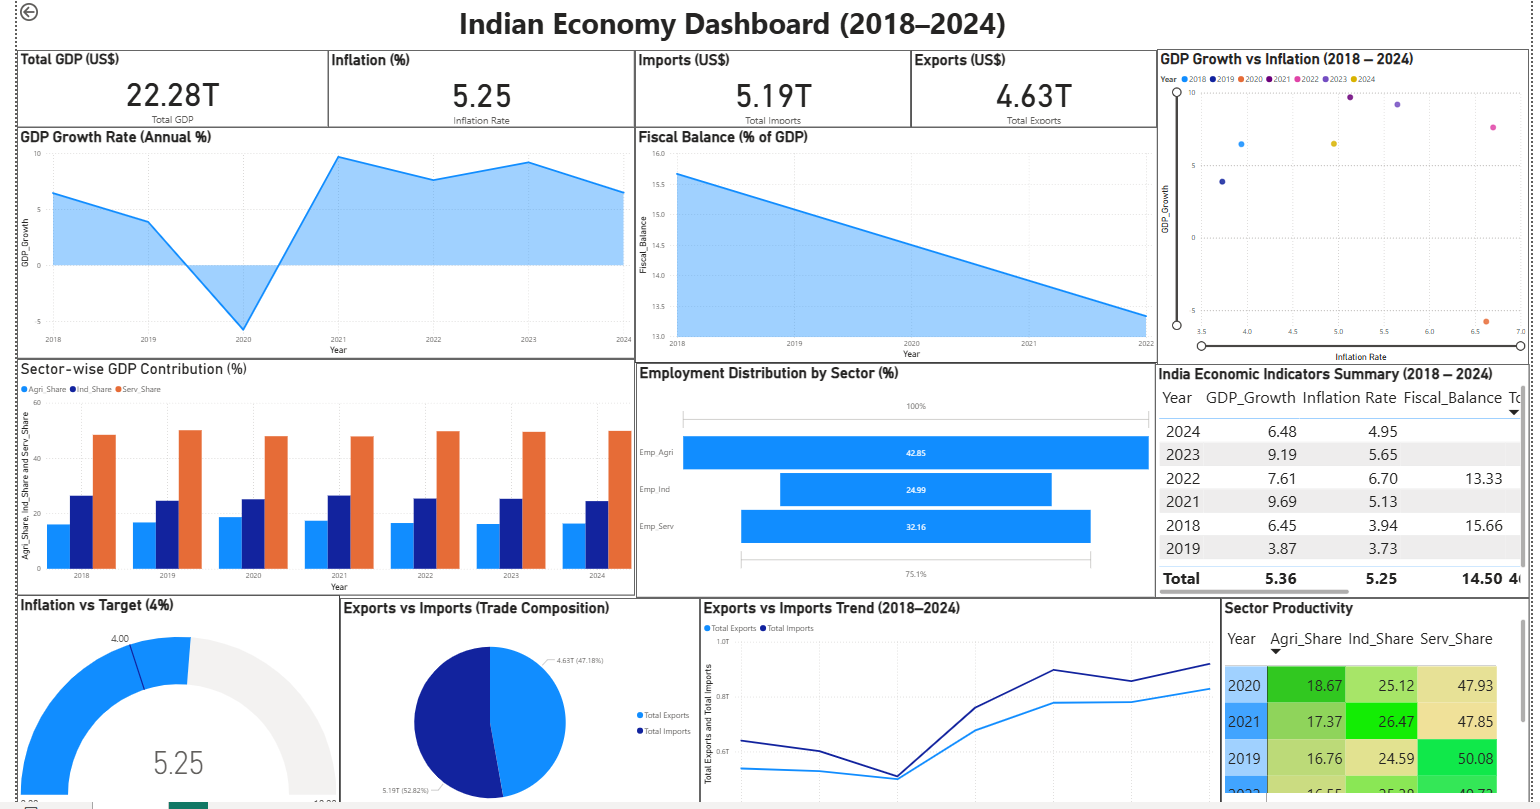

Layout of this report page (visuals, bound fields, positions):
{"tool":"powerbi","page":{"name":"Page 1","canvas":[2523,1388],"ordinal":0},"visuals":[{"type":"textbox","box":[282.8,0,1819,74.1],"z":0},{"type":"actionButton","box":[0,0,100,40],"z":1000},{"type":"card","title":"Total GDP (US$)","fields":{"Values":["API_IND_DS2_en_csv_v2_8039.Total GDP"]},"box":[0,82.9,518.6,128.6],"z":2000},{"type":"card","title":"Inflation (%)","fields":{"Values":["API_IND_DS2_en_csv_v2_8039.Inflation Rate"]},"box":[518.6,82.9,511.4,128.6],"z":3000},{"type":"card","title":"Exports (US$)","fields":{"Values":["API_IND_DS2_en_csv_v2_8039.Total Exports"]},"box":[1489.7,82.8,410.3,129.3],"z":4000},{"type":"card","title":"Imports (US$)","fields":{"Values":["API_IND_DS2_en_csv_v2_8039.Total Imports"]},"box":[1029.3,82.8,460.3,129.3],"z":5000},{"type":"lineChart","title":"GDP Growth Rate (Annual %)","fields":{"Category":["API_IND_DS2_en_csv_v2_8039.Year"],"Y":["API_IND_DS2_en_csv_v2_8039.GDP_Growth"]},"box":[0,212,1030,386],"z":6000},{"type":"areaChart","title":"Fiscal Balance (% of GDP)","fields":{"Category":["API_IND_DS2_en_csv_v2_8039.Year"],"Y":["API_IND_DS2_en_csv_v2_8039.Fiscal_Balance"]},"box":[1029.3,212.1,870.7,393.1],"z":7000},{"type":"gauge","title":"Inflation vs Target (4%)","fields":{"Y":["API_IND_DS2_en_csv_v2_8039.Inflation Rate"]},"box":[0,991.7,538.3,390],"z":8000},{"type":"clusteredColumnChart","title":"Sector-wise GDP Contribution (%)","fields":{"Category":["API_IND_DS2_en_csv_v2_8039.Year"],"Y":["API_IND_DS2_en_csv_v2_8039.Agri_Share","API_IND_DS2_en_csv_v2_8039.Ind_Share","API_IND_DS2_en_csv_v2_8039.Serv_Share"]},"box":[0,598,1030,394],"z":9000},{"type":"funnel","title":"Employment Distribution by Sector (%)","fields":{"Y":["API_IND_DS2_en_csv_v2_8039.Emp_Agri","API_IND_DS2_en_csv_v2_8039.Emp_Ind","API_IND_DS2_en_csv_v2_8039.Emp_Serv"]},"box":[1031,605.2,865.5,391.4],"z":10000},{"type":"pieChart","title":"Exports vs Imports (Trade Composition)","fields":{"Y":["API_IND_DS2_en_csv_v2_8039.Total Exports","API_IND_DS2_en_csv_v2_8039.Total Imports"]},"box":[538,996,600,386],"z":11000},{"type":"lineChart","title":"Exports vs Imports Trend (2018–2024)","fields":{"Category":["API_IND_DS2_en_csv_v2_8039.Year"],"Y":["API_IND_DS2_en_csv_v2_8039.Total Exports","API_IND_DS2_en_csv_v2_8039.Total Imports"]},"box":[1138,996,868,392],"z":12000},{"type":"scatterChart","title":"GDP Growth vs Inflation (2018 – 2024)","fields":{"X":["API_IND_DS2_en_csv_v2_8039.Inflation Rate"],"Y":["API_IND_DS2_en_csv_v2_8039.GDP_Growth"],"Series":["API_IND_DS2_en_csv_v2_8039.Year"]},"box":[1900,82,620,528],"z":13000},{"type":"tableEx","title":"India Economic Indicators Summary (2018 – 2024)","fields":{"Values":["API_IND_DS2_en_csv_v2_8039.Year","API_IND_DS2_en_csv_v2_8039.GDP_Growth","API_IND_DS2_en_csv_v2_8039.Inflation Rate","API_IND_DS2_en_csv_v2_8039.Fiscal_Balance","API_IND_DS2_en_csv_v2_8039.Total Exports","API_IND_DS2_en_csv_v2_8039.Total Imports"]},"box":[1896,606,624,390],"z":14000},{"type":"pivotTable","title":"Sector Productivity","fields":{"Rows":["API_IND_DS2_en_csv_v2_8039.Year"],"Values":["API_IND_DS2_en_csv_v2_8039.Agri_Share","API_IND_DS2_en_csv_v2_8039.Ind_Share","API_IND_DS2_en_csv_v2_8039.Serv_Share"]},"box":[2006,996,514,392],"z":15000}]}

Visuals, with their boxes in screenshot pixels (x1, y1, x2, y2):
textbox: box=[189, 0, 1274, 44]
actionButton: box=[20, 0, 80, 24]
"Total GDP (US$)" card: box=[20, 49, 330, 126]
"Inflation (%)" card: box=[330, 49, 635, 126]
"Exports (US$)" card: box=[909, 49, 1154, 127]
"Imports (US$)" card: box=[634, 49, 909, 127]
"GDP Growth Rate (Annual %)" lineChart: box=[20, 127, 635, 357]
"Fiscal Balance (% of GDP)" areaChart: box=[634, 127, 1154, 361]
"Inflation vs Target (4%)" gauge: box=[20, 592, 341, 808]
"Sector-wise GDP Contribution (%)" clusteredColumnChart: box=[20, 357, 635, 592]
"Employment Distribution by Sector (%)" funnel: box=[635, 361, 1152, 595]
"Exports vs Imports (Trade Composition)" pieChart: box=[341, 594, 699, 808]
"Exports vs Imports Trend (2018–2024)" lineChart: box=[699, 594, 1217, 808]
"GDP Growth vs Inflation (2018 – 2024)" scatterChart: box=[1154, 49, 1524, 364]
"India Economic Indicators Summary (2018 – 2024)" tableEx: box=[1151, 362, 1524, 594]
"Sector Productivity" pivotTable: box=[1217, 594, 1524, 808]
